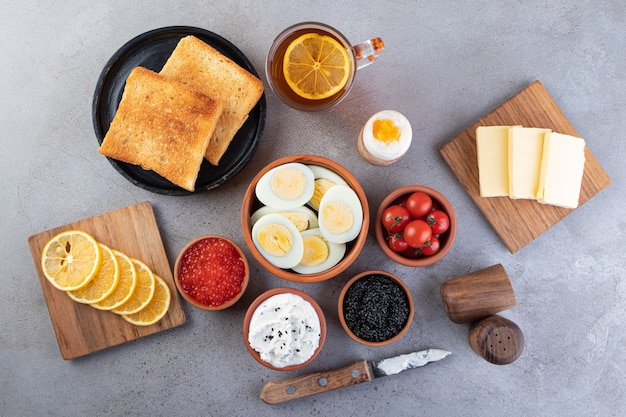knife: (259, 347, 452, 407)
